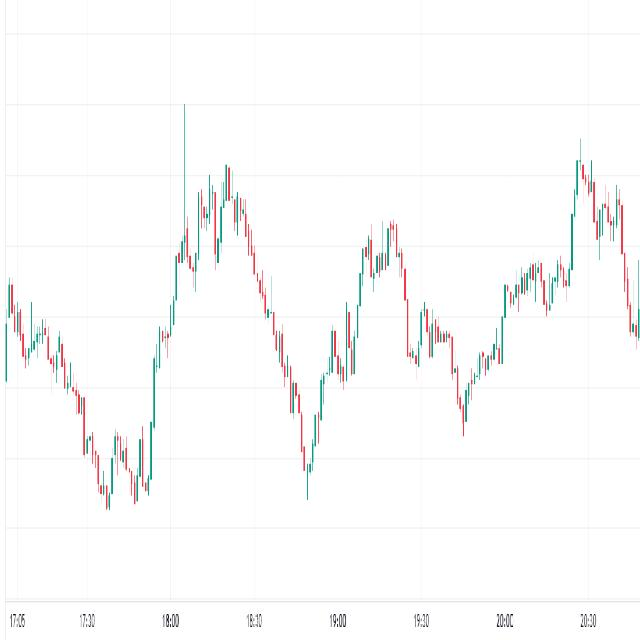Triangle: (403, 274, 459, 417)
